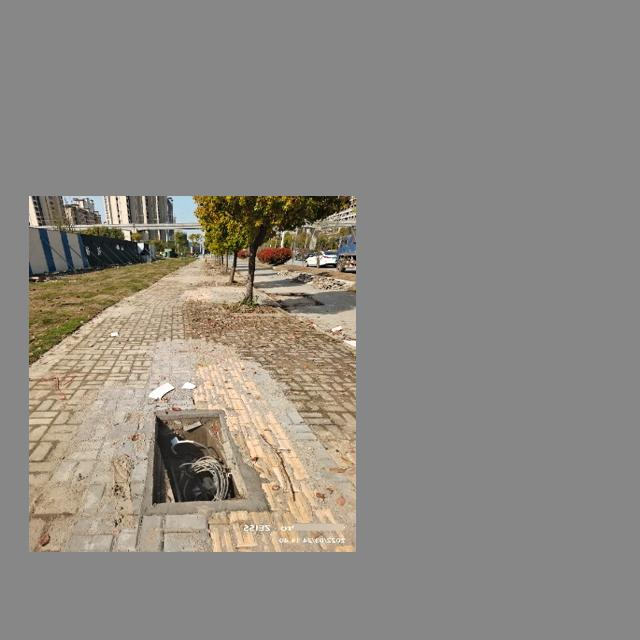lose: (146, 400, 244, 508)
